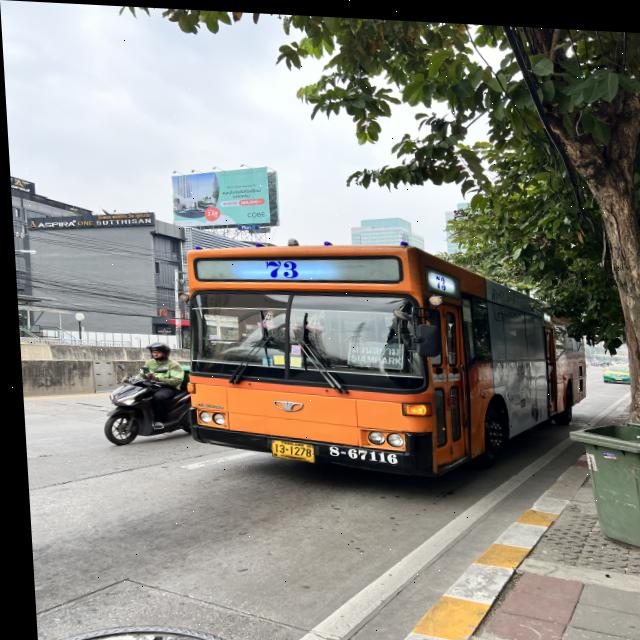BMTA-bus: (180, 242, 584, 477)
Bus Line Number: (258, 252, 304, 278)
Bus Side Number: (317, 439, 397, 465)
Destination Sign: (344, 336, 400, 365)
